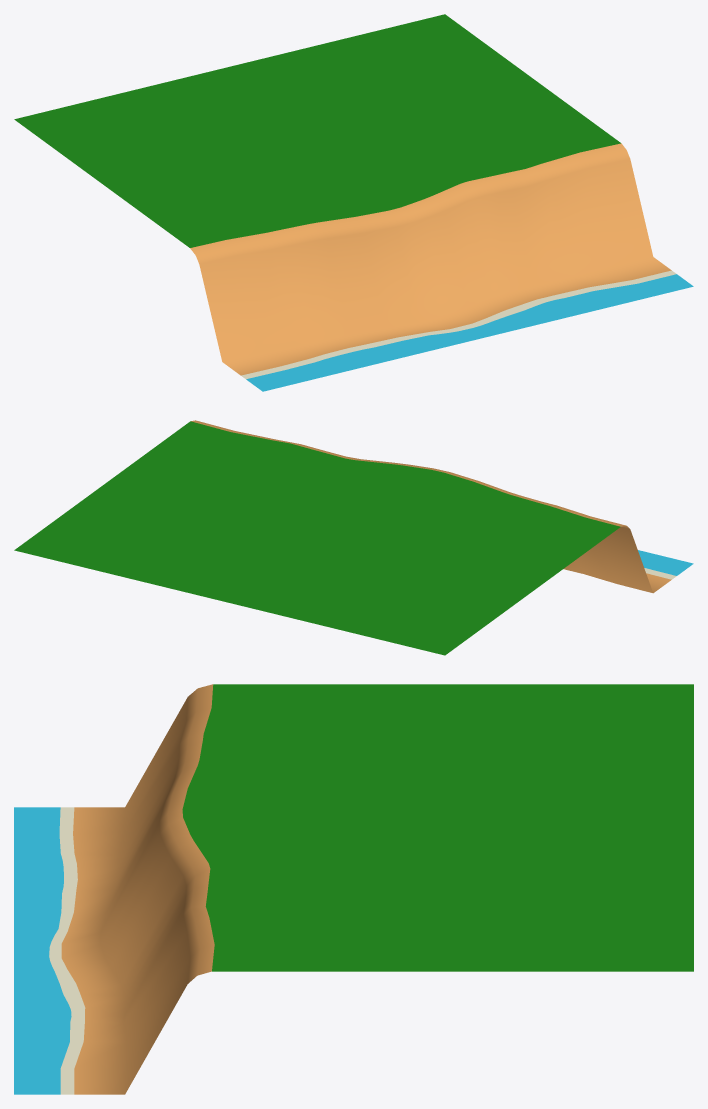
File: Beach-2.fbx
3 renders of one model, top to bottom at view 1: azimuth 30°, elevation 25°; view 2: azimuth 150°, elevation 25°; view 3: azimuth 270°, elevation 25°, orthographic. The views are drawn at different scales.
Visible parts, largest first — view 1: Beach-2_Terrain, Beach-2_Sand, Beach-2_Water, Beach-2_Seashore; view 2: Beach-2_Terrain, Beach-2_Sand, Beach-2_Water; view 3: Beach-2_Terrain, Beach-2_Sand, Beach-2_Water, Beach-2_Seashore.
Part boxes in pixels (x1,y1,x2,y2): Beach-2_Terrain: (14, 14, 620, 247); Beach-2_Sand: (190, 143, 671, 375); Beach-2_Water: (246, 274, 693, 391); Beach-2_Seashore: (241, 270, 676, 379); Beach-2_Terrain: (14, 421, 620, 655); Beach-2_Sand: (191, 420, 671, 593); Beach-2_Water: (638, 550, 693, 575); Beach-2_Terrain: (182, 684, 693, 971); Beach-2_Sand: (61, 684, 214, 1094); Beach-2_Water: (14, 807, 71, 1094); Beach-2_Seashore: (49, 807, 85, 1094).
Bounding box in the file's own units: 20 × 4 × 20.
